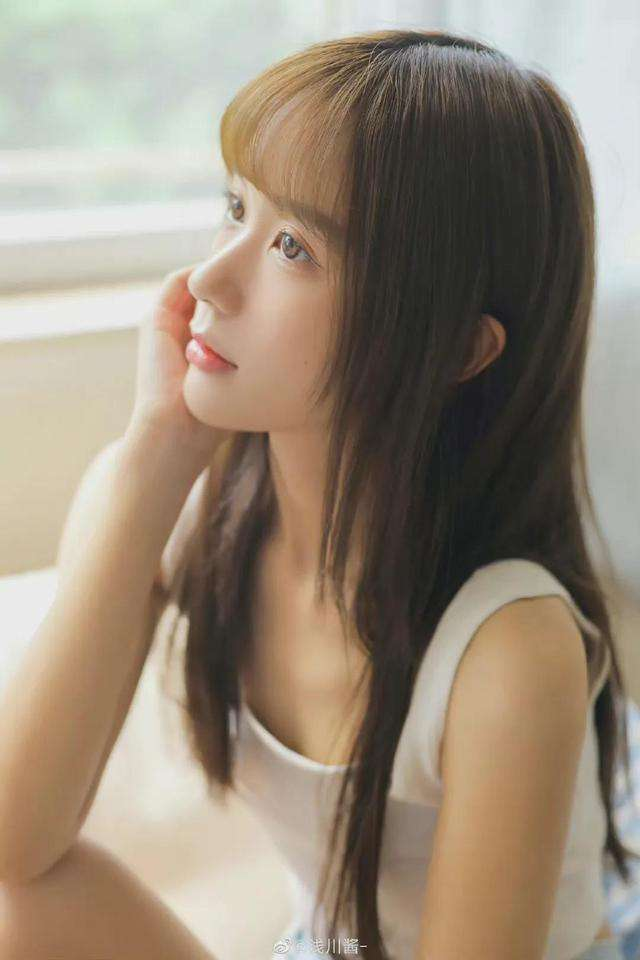person: (64, 27, 553, 842)
